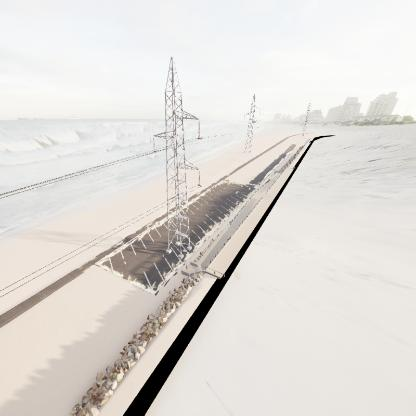tower: (149, 58, 206, 266), (237, 91, 265, 158)
